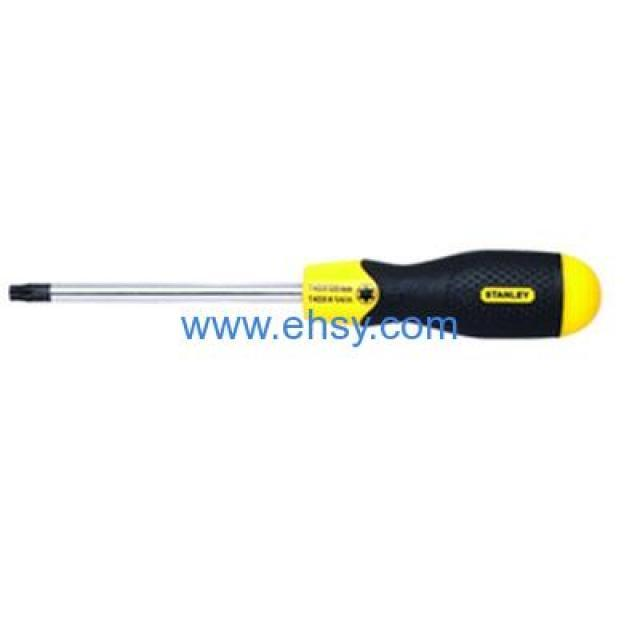screwdriver: (0, 237, 621, 352)
